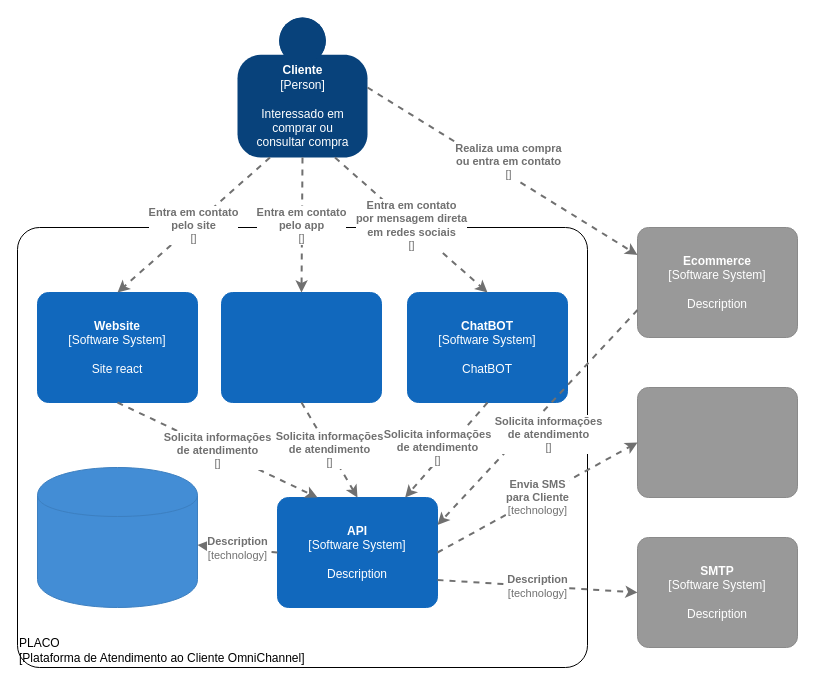
Image size: 815x685. Some labels were removed from this diagram. The shapes that lost their labels are listed below. From the top down, each one's centre as x and y in pixels, then its label:
At point (301, 347): "App [Software System] Aplicativo react native".
At point (717, 442): "SMS [Software System] Description".
At point (117, 537): "Database [Container: MySQL] Description".
